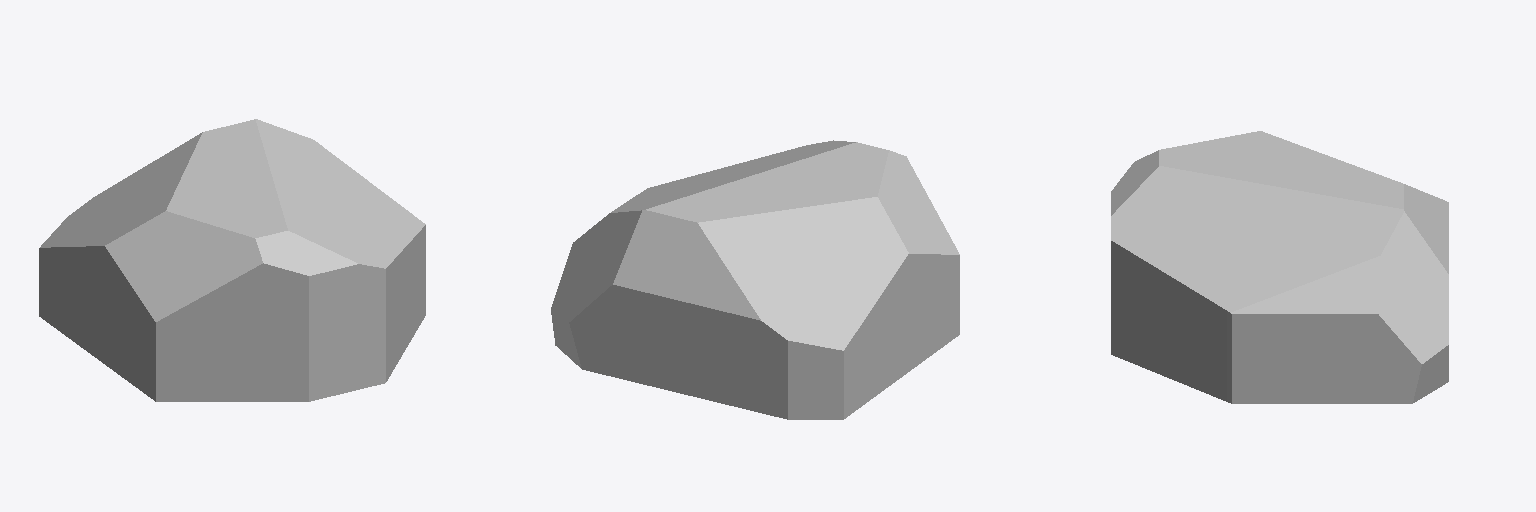
Rendered from Rock1.obj.
The picture shows the model from 3 angles: view 1: azimuth 30°, elevation 25°; view 2: azimuth 150°, elevation 25°; view 3: azimuth 270°, elevation 25°; orthographic projection.
Visible parts, largest first — view 1: Rock1; view 2: Rock1; view 3: Rock1.
Boxes of the visible parts, <box> form: Rock1: <box>39,119,425,401</box>; Rock1: <box>551,140,959,419</box>; Rock1: <box>1111,131,1448,403</box>.
Bounding box in the file's own units: 2 × 1 × 2.